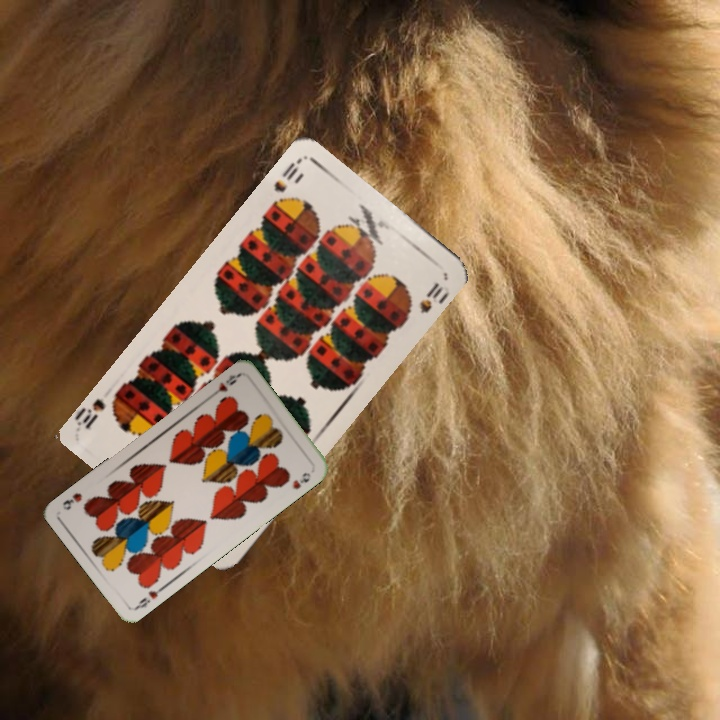H9: (132, 582, 167, 612), (207, 371, 242, 400)
S10: (267, 155, 303, 209)
